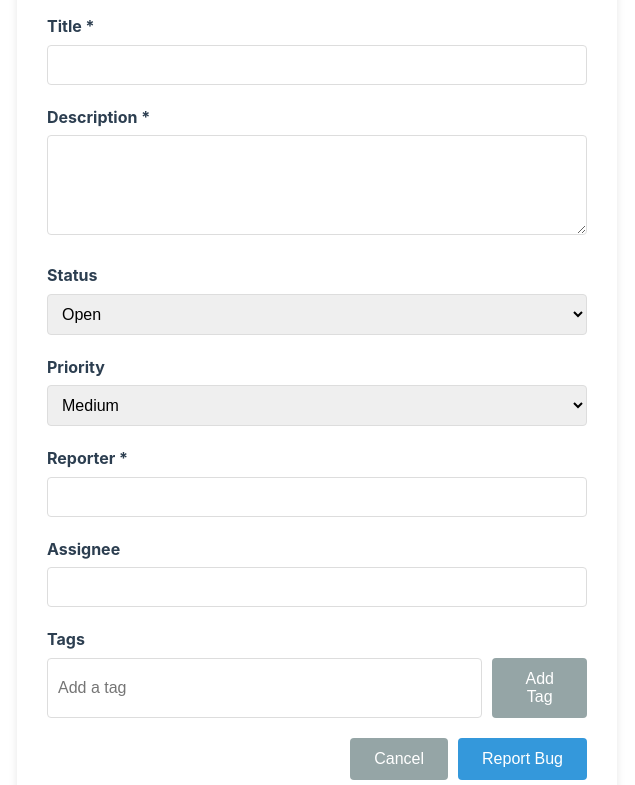
BugForm Component › adds and removes tags
(page scrolled)
Type "frontend" into the field with placeholder "Add a tag" at (265, 688), box [47,658,482,718]
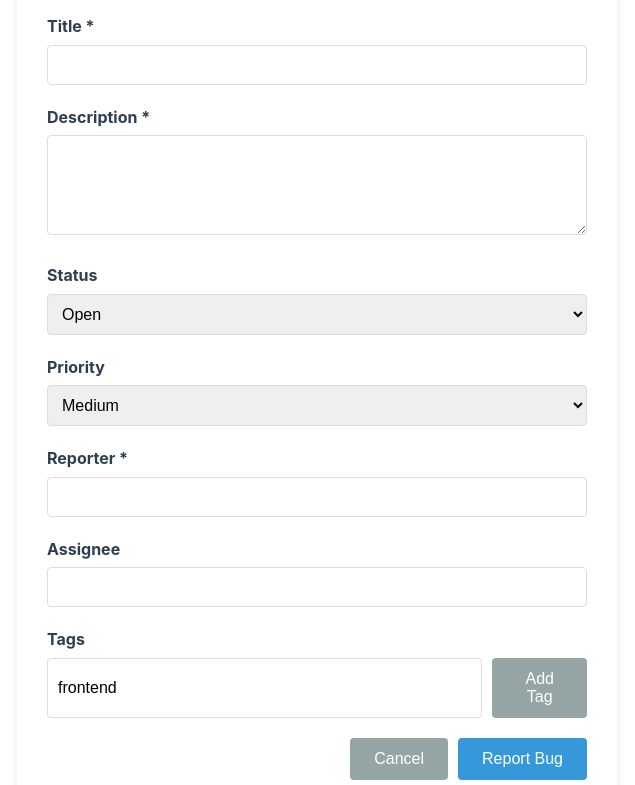
Click the button "Add Tag" at (540, 688), box [492,658,587,718]
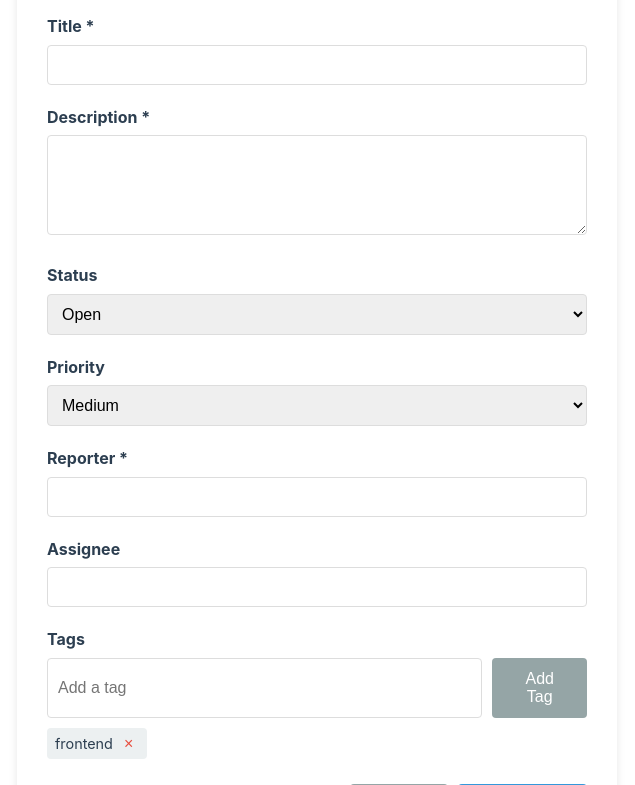
Result: the text "frontend" is shown at [55,735,113,752]
Click the button "×" at (129, 744), box [118,734,139,754]
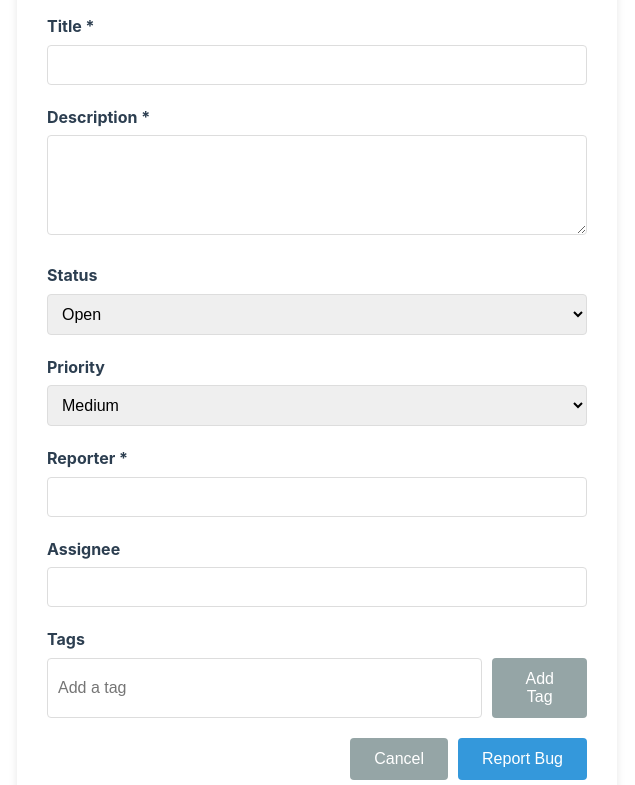
Result: the text "frontend" is gone
